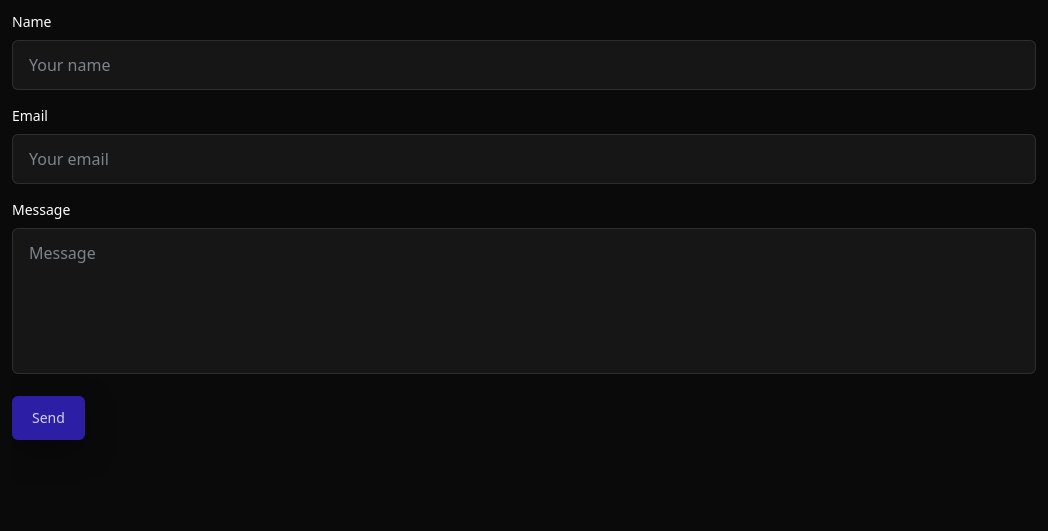
Test: ContactForm › submits to the configured provider and announces success
Type "Gabriel" into the field with placeholder "Your name". click: coordinates (524, 65)
box: [12, 40, 1036, 90]
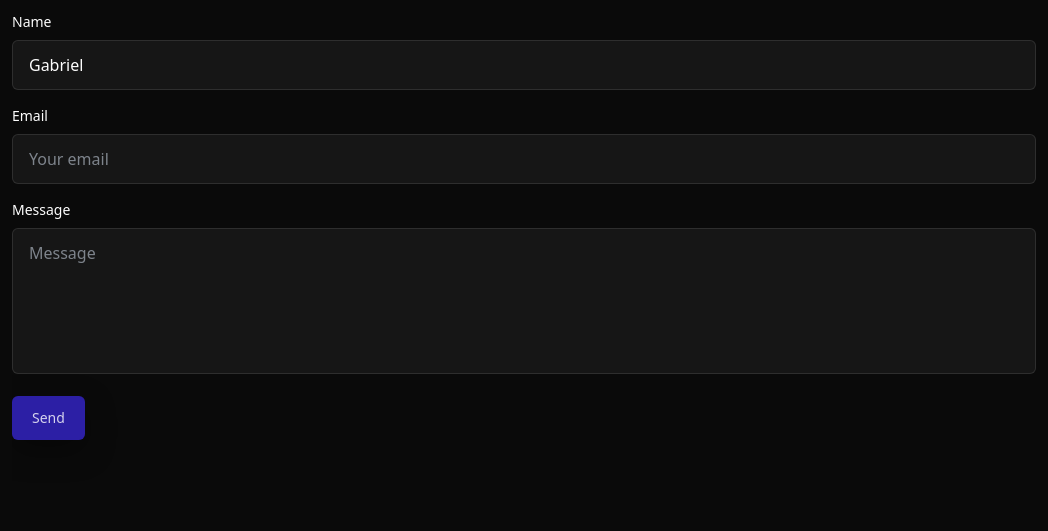
Type "gabriel@example.com" into the field with placeholder "Your email". click: coordinates (524, 159)
box: [12, 134, 1036, 184]
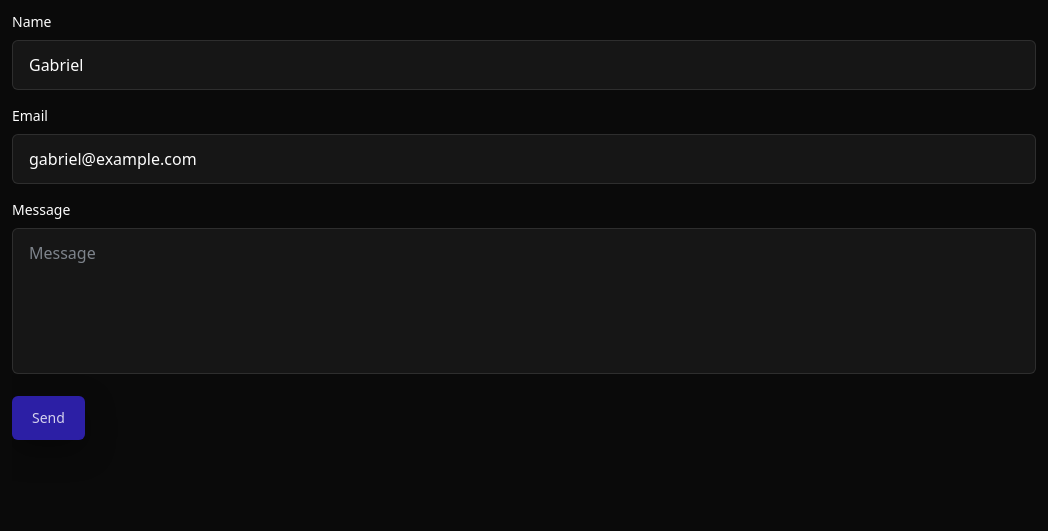
Type "Hello" into the text box with placeholder "Message". click: coordinates (524, 301)
box: [12, 228, 1036, 374]
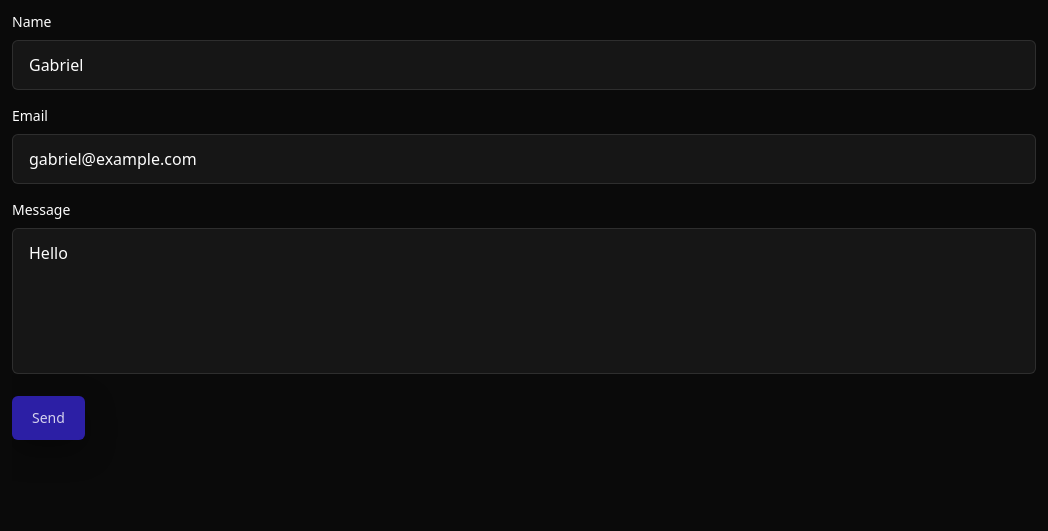
Click the button "Send". click: coordinates (48, 418)
box: [12, 396, 85, 440]
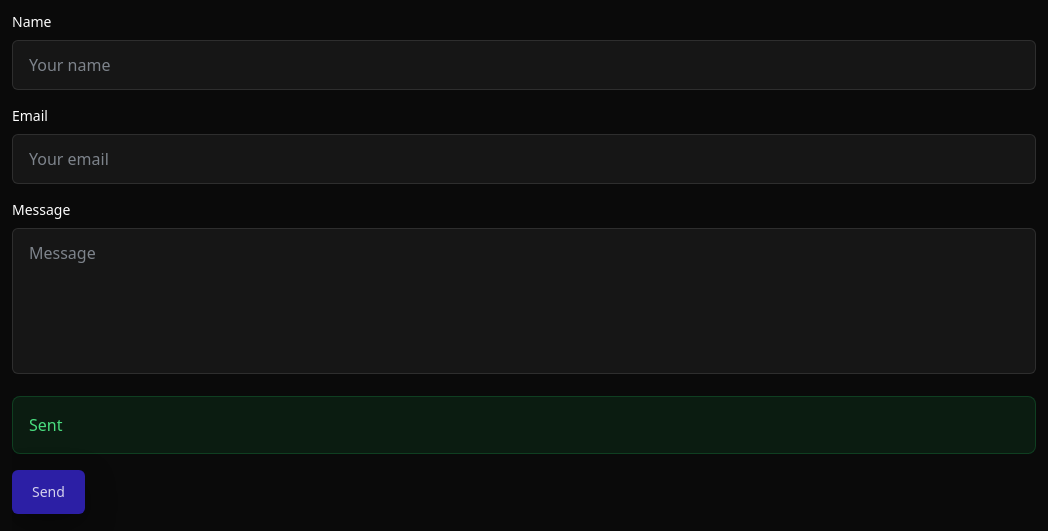
Now the message reads "Sent", box [29, 414, 62, 436]
